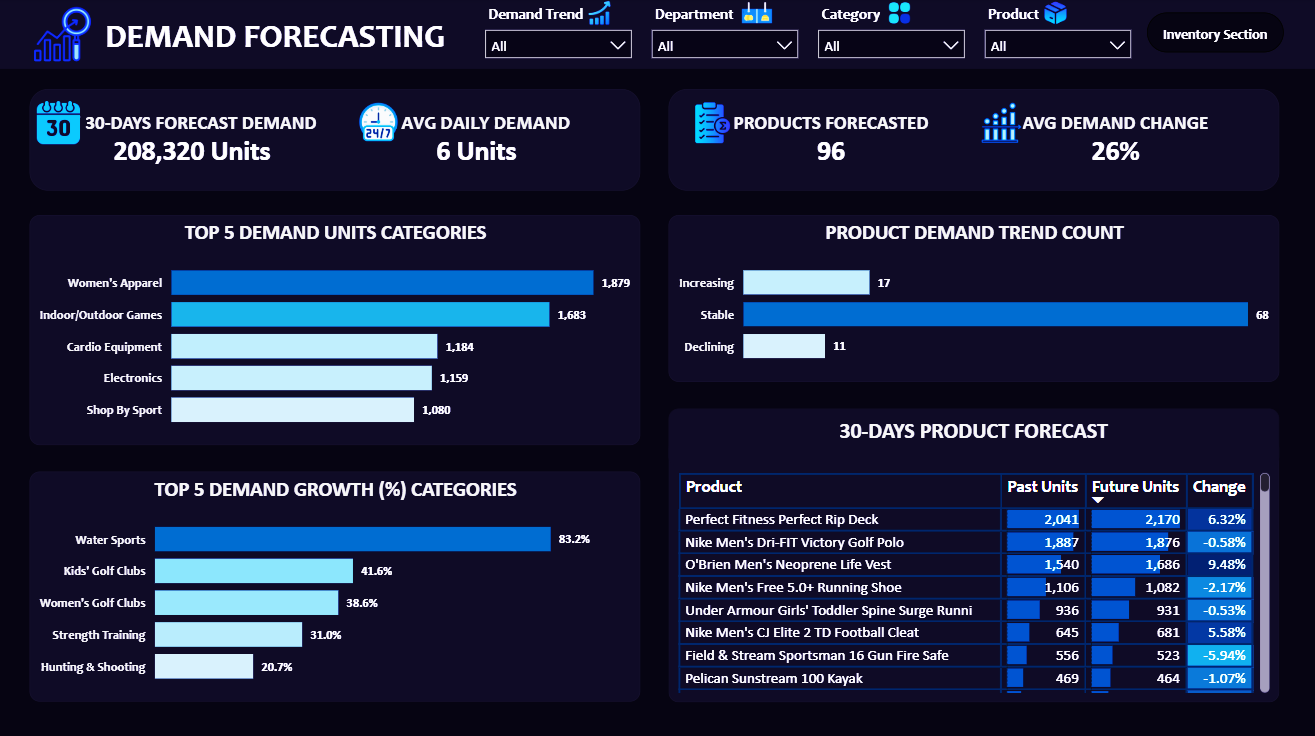

The dashboard page shown, as its layout file describes it:
{"tool":"powerbi","page":{"name":"Demand Forecasting","canvas":[1280,720],"ordinal":0},"visuals":[{"type":"shape","box":[0,0,1281.3,720],"z":0},{"type":"shape","box":[0,1.6,1280.8,69.6],"z":1000},{"type":"textbox","box":[99,13.1,446.9,53.9],"z":2000},{"type":"cardVisual","fields":{"Data":["all_measures.Total Forecasted Units","all_measures.Average Daily Forecast"]},"box":[30.8,90.7,592.6,98.8],"z":3000},{"type":"cardVisual","fields":{"Data":["all_measures.Total Products Forecasted","all_measures.% Average Forecast Growth"]},"box":[650.9,90.7,592.6,98.8],"z":4000},{"type":"clusteredBarChart","title":"TOP 5 DEMAND UNITS CATEGORIES","fields":{"Category":["fact_sales.category_name"],"Y":["all_measures_page_1.Total Demand Forecasted"]},"box":[30.8,212.1,592.6,223.5],"z":9000},{"type":"clusteredBarChart","title":"TOP 5 DEMAND GROWTH (%) CATEGORIES","fields":{"Category":["fact_sales.category_name"],"Y":["all_measures_page_1.% Forecast Growth"]},"box":[30.8,461.5,592.6,223.5],"z":10000},{"type":"clusteredBarChart","title":"PRODUCT DEMAND TREND COUNT","fields":{"Category":["fact_forecast.demand_trend"],"Y":["all_measures_page_1.Total Products Forecasted"]},"box":[650.9,212.1,592.6,161.9],"z":11000},{"type":"tableEx","title":"30 DAYS PRODUCT FORECAST","fields":{"Values":["fact_sales.product_name","Avg(fact_forecast.historical_30d_demand)","Avg(fact_forecast.forecast_30d_total)","all_measures_page_1.% Forecast Growth"]},"box":[650.9,429.1,592.6,255.8],"z":12000},{"type":"textbox","box":[650.9,399.9,592.6,56.7],"z":13000},{"type":"slicer","fields":{"Values":["fact_forecast.demand_trend"]},"box":[463.1,3.2,161.9,71.2],"z":13500},{"type":"slicer","fields":{"Values":["fact_sales.department_name"]},"box":[625,3.2,161.9,71.2],"z":13750},{"type":"slicer","fields":{"Values":["fact_sales.category_name"]},"box":[785.3,3.2,161.9,71.2],"z":13875},{"type":"slicer","fields":{"Values":["fact_sales.product_name"]},"box":[947.2,3.2,161.9,71.2],"z":13937},{"type":"image","box":[35.6,8.1,55.1,56.7],"z":14000},{"type":"image","box":[568.3,4.9,32.4,24.3],"z":15000},{"type":"image","box":[715.7,0,40.5,32.4],"z":16000},{"type":"image","box":[858.2,4.9,32.4,24.3],"z":17000},{"type":"image","box":[1010.4,4.9,32.4,24.3],"z":18000},{"type":"image","box":[35.6,102,47,42.1],"z":19000},{"type":"image","box":[304.2,101.9,129.5,40.8],"z":20000},{"type":"image","box":[621.5,100.4,144.1,45.1],"z":21000},{"type":"image","box":[905.4,103.3,136.8,39.3],"z":22000},{"type":"actionButton","box":[1115.6,16.2,132.8,38.9],"z":23000}]}

Visuals, with their boxes in screenshot pixels (x1, y1, x2, y2), scaled from the page's 1280x720 canvas onto the 1315x736 screenshot:
shape: (0,0,1314,735)
shape: (0,2,1314,73)
textbox: (102,13,561,68)
cardVisual - all_measures.Total Forecasted Units x all_measures.Average Daily Forecast: (32,93,640,194)
cardVisual - all_measures.Total Products Forecasted x all_measures.% Average Forecast Growth: (669,93,1278,194)
"TOP 5 DEMAND UNITS CATEGORIES" clusteredBarChart: (32,217,640,445)
"TOP 5 DEMAND GROWTH (%) CATEGORIES" clusteredBarChart: (32,472,640,700)
"PRODUCT DEMAND TREND COUNT" clusteredBarChart: (669,217,1278,382)
"30 DAYS PRODUCT FORECAST" tableEx: (669,439,1278,700)
textbox: (669,409,1278,467)
slicer - fact_forecast.demand_trend: (476,3,642,76)
slicer - fact_sales.department_name: (642,3,808,76)
slicer - fact_sales.category_name: (807,3,973,76)
slicer - fact_sales.product_name: (973,3,1139,76)
image: (37,8,93,66)
image: (584,5,617,30)
image: (735,0,777,33)
image: (882,5,915,30)
image: (1038,5,1071,30)
image: (37,104,85,147)
image: (313,104,446,146)
image: (638,103,787,149)
image: (930,106,1071,146)
actionButton: (1146,17,1283,56)
